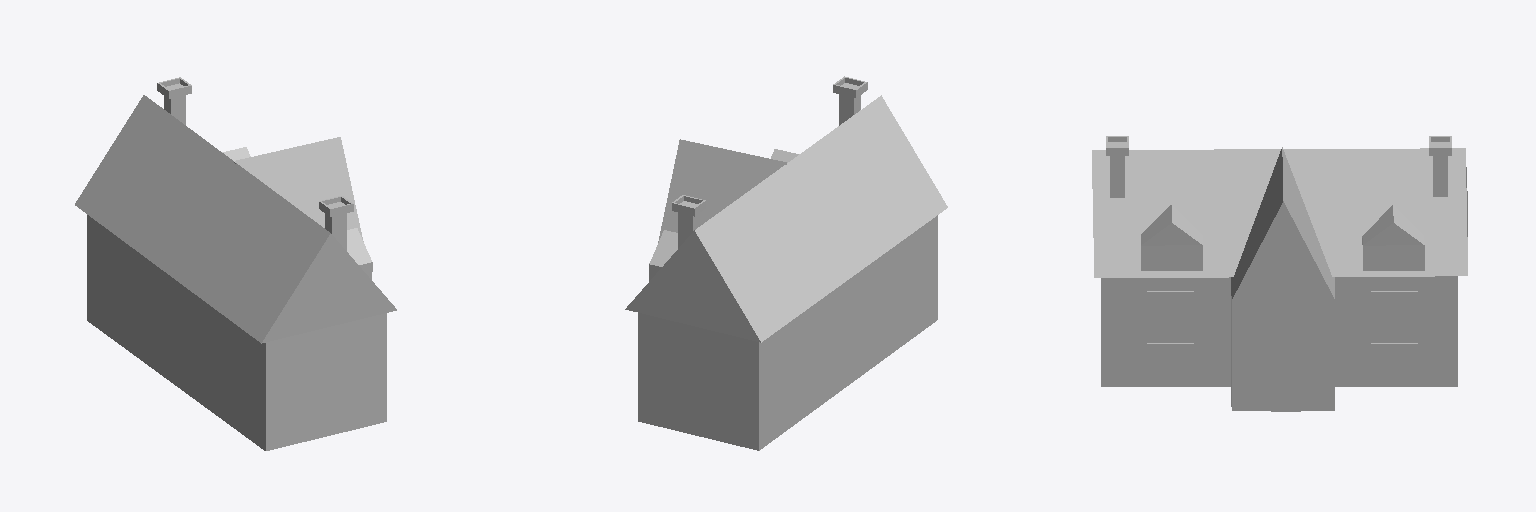
The model's file is House3.obj.
The picture shows the model from 3 angles: view 1: azimuth 30°, elevation 25°; view 2: azimuth 150°, elevation 25°; view 3: azimuth 270°, elevation 25°; orthographic projection.
Parts seen in each view (by area): view 1: Cube_004; view 2: Cube_004; view 3: Cube_004.
Boxes of the visible parts, x1=… form: Cube_004: x1=75, y1=77, x2=396, y2=450; Cube_004: x1=625, y1=76, x2=947, y2=450; Cube_004: x1=1092, y1=136, x2=1467, y2=411.
Bounding box in the file's own units: 82.41 × 102 × 154.